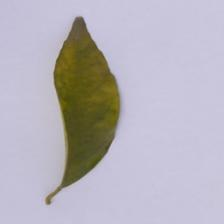greening: (26, 6, 130, 218)
